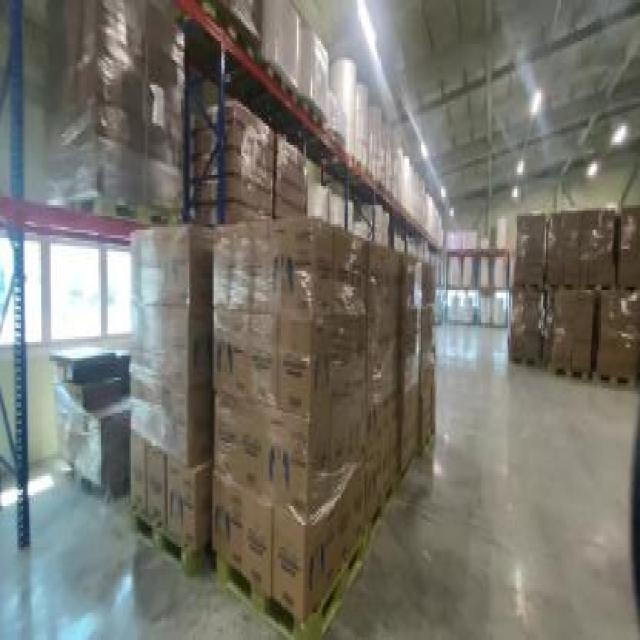box: (129, 219, 434, 634), (46, 2, 196, 230), (511, 211, 638, 391), (191, 98, 312, 240), (38, 342, 140, 498)
white_roll: (257, 2, 326, 118), (406, 162, 446, 246), (378, 112, 409, 208), (326, 46, 354, 150), (355, 79, 380, 175), (448, 255, 508, 288), (449, 293, 503, 328), (443, 230, 512, 249)
